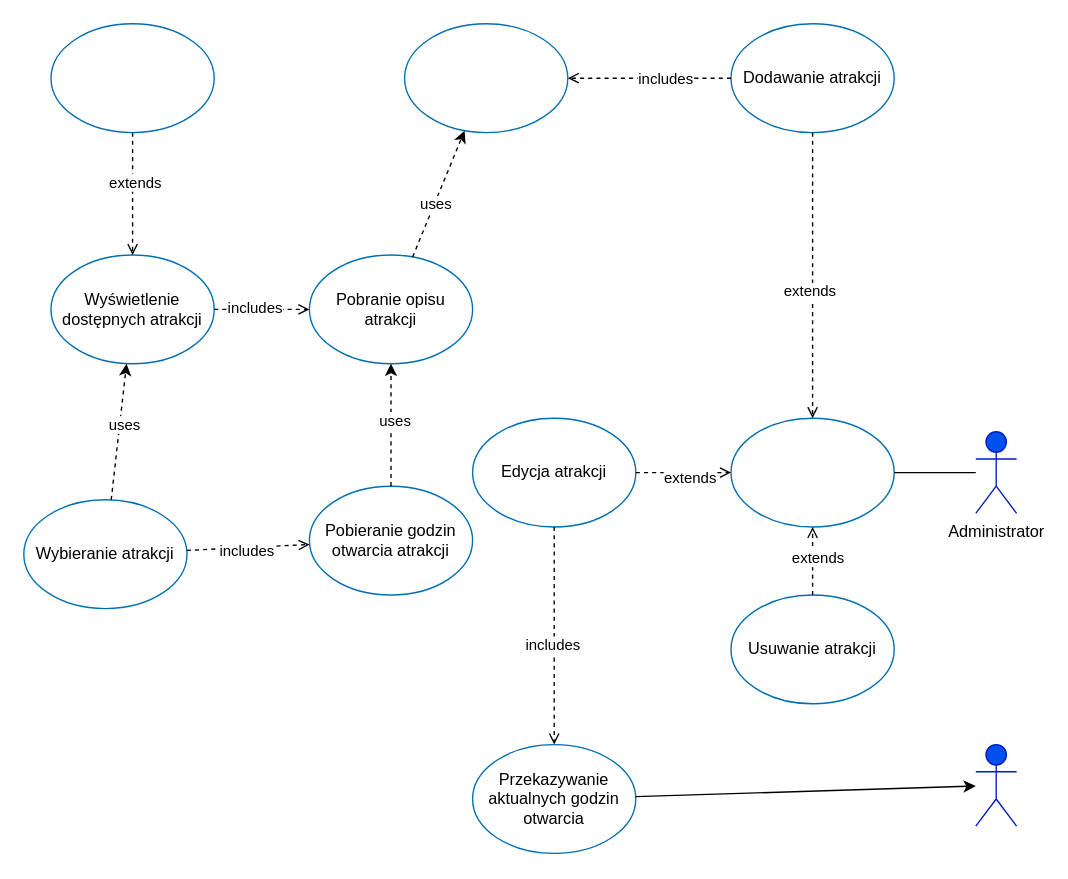
Some shapes in this 1068 by 879 pixel diagram are drawn without their labels. Here are the shapes that lost their labels. From the top down, the box of each, then its label:
(50, 22, 214, 133): Pobieranie ocen i opinii
(403, 22, 568, 133): Tworzenie opisu atrakcji
(730, 417, 894, 527): Zarządzanie atrakcjami w Gdańsku
(974, 743, 1017, 826): ChatGPT
